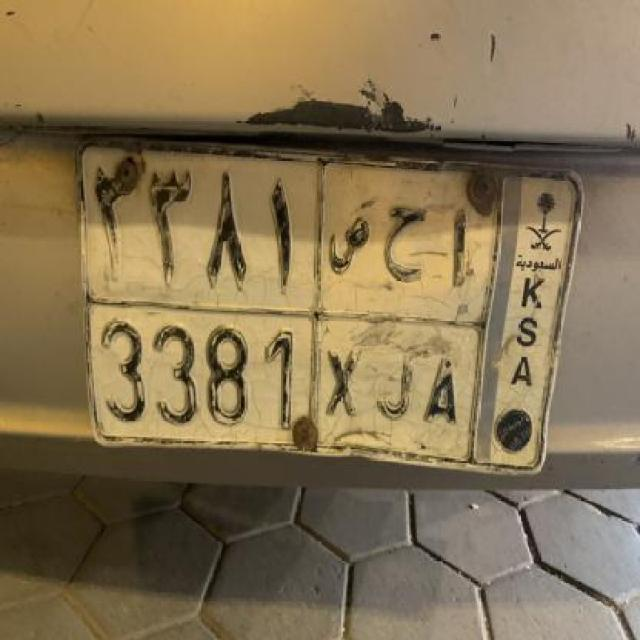license_plate: (70, 126, 588, 488)
